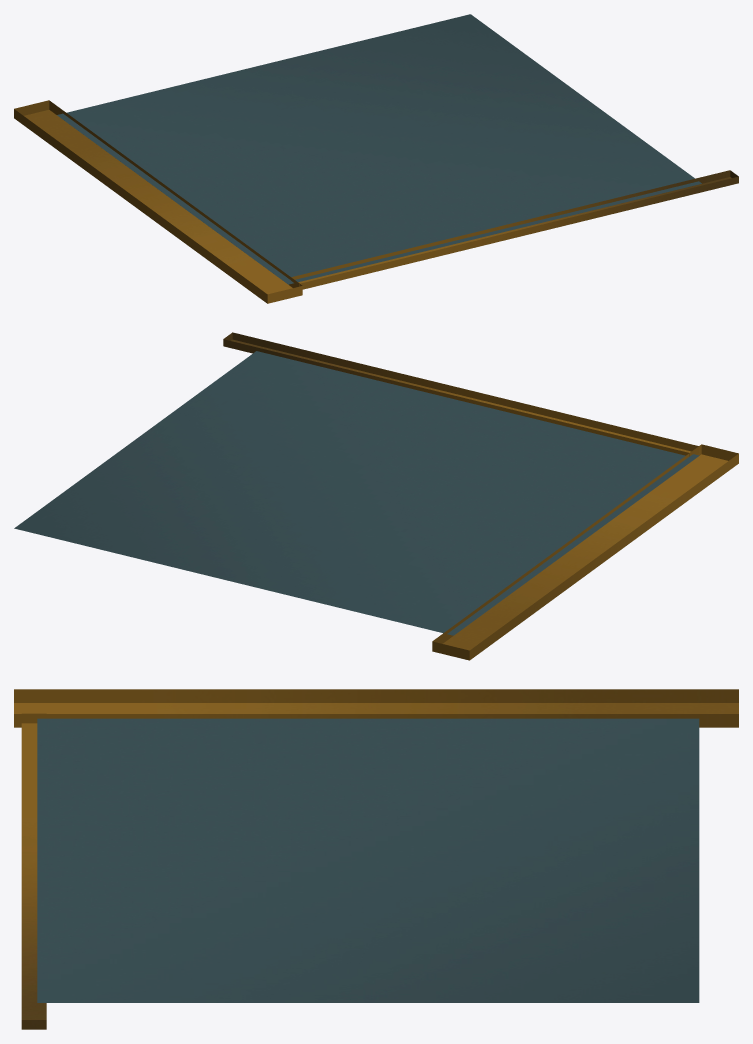
Rendered from Chuangzi.FBX.
3 renders of one model, top to bottom at view 1: azimuth 30°, elevation 25°; view 2: azimuth 150°, elevation 25°; view 3: azimuth 270°, elevation 25°, orthographic. The views are drawn at different scales.
Visible parts, largest first — view 1: Object031; view 2: Object031; view 3: Object031.
Boxes of the visible parts, x1=… form: Object031: x1=14, y1=14, x2=738, y2=303; Object031: x1=14, y1=332, x2=738, y2=660; Object031: x1=14, y1=689, x2=738, y2=1029.
Size of the model in its own units: 19.81 by 0.3873 by 18.35.
Materials: 1 (1 with a texture image).
